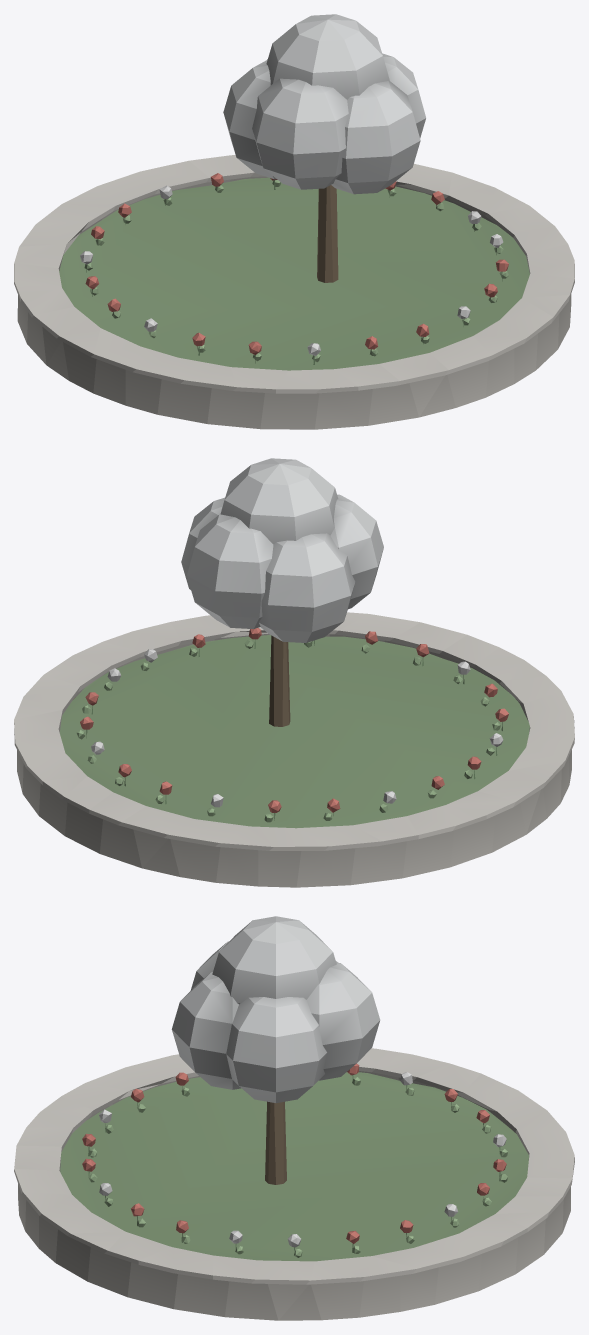
File: plaza_garden_round_winter_low.glb
3 renders of one model, top to bottom at view 1: azimuth 30°, elevation 25°; view 2: azimuth 150°, elevation 25°; view 3: azimuth 270°, elevation 25°, orthographic.
Size of the model in its own units: 6.08 by 3.51 by 6.08.
